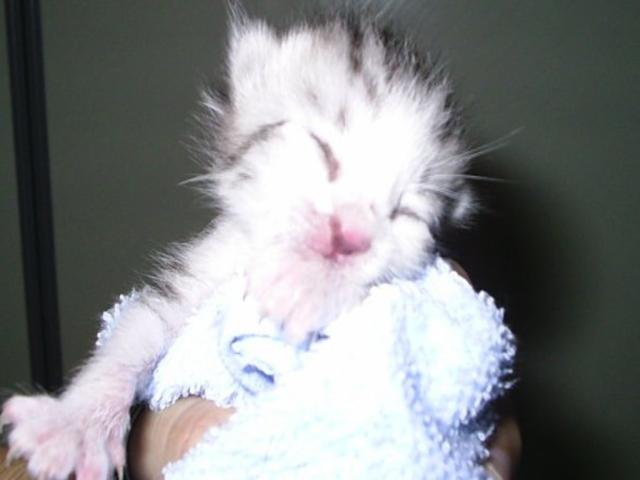Cat: (0, 0, 520, 479)
